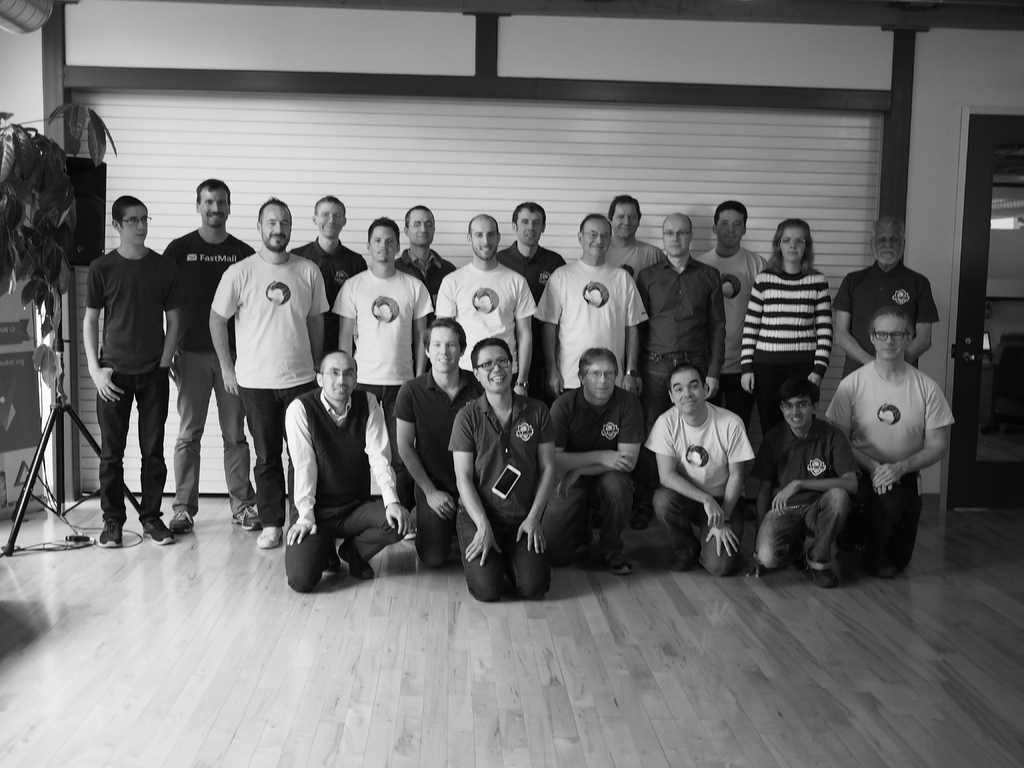Human_hand: (464, 520, 506, 568), (703, 520, 742, 557), (90, 365, 124, 403), (517, 516, 547, 556), (385, 500, 415, 538), (769, 481, 800, 516), (427, 490, 457, 522), (602, 450, 639, 474), (871, 462, 904, 488), (554, 468, 580, 500), (867, 462, 890, 497), (287, 522, 319, 547), (542, 370, 566, 403), (738, 551, 764, 579), (702, 498, 724, 528), (221, 364, 241, 395), (702, 375, 722, 399), (620, 374, 639, 399), (738, 371, 756, 394), (166, 356, 181, 381), (633, 375, 645, 397), (806, 371, 822, 387), (510, 385, 529, 396)
